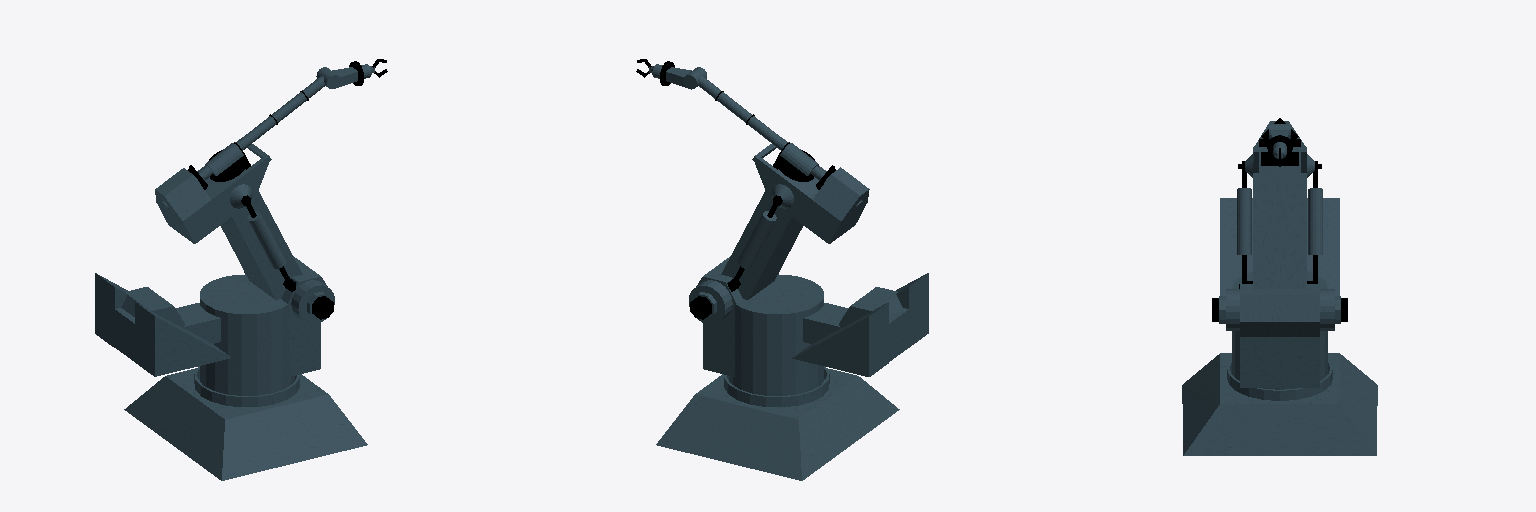
The picture shows the model from 3 angles: view 1: azimuth 30°, elevation 25°; view 2: azimuth 150°, elevation 25°; view 3: azimuth 270°, elevation 25°; orthographic projection.
Visible parts, largest first — view 1: polySurface32; view 2: polySurface32; view 3: polySurface32.
Part boxes in pixels (left/top/right/bottom): polySurface32: left=95, top=59, right=387, bottom=480; polySurface32: left=636, top=59, right=928, bottom=480; polySurface32: left=1182, top=118, right=1377, bottom=455.
Bounding box in the file's own units: 5.72 × 7.04 × 3.68.
Materials: 3 (1 with a texture image).